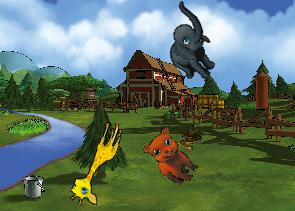bear: (137, 123, 208, 189)
elephant: (146, 0, 235, 87)
giraffe: (66, 115, 125, 210)
